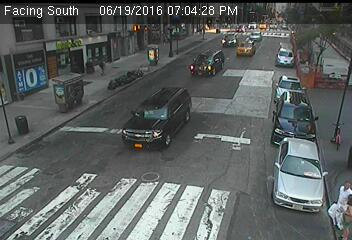neg: (130, 104, 161, 145), (260, 107, 287, 143), (329, 120, 343, 139)
pos: (331, 178, 351, 220), (92, 54, 110, 77)
